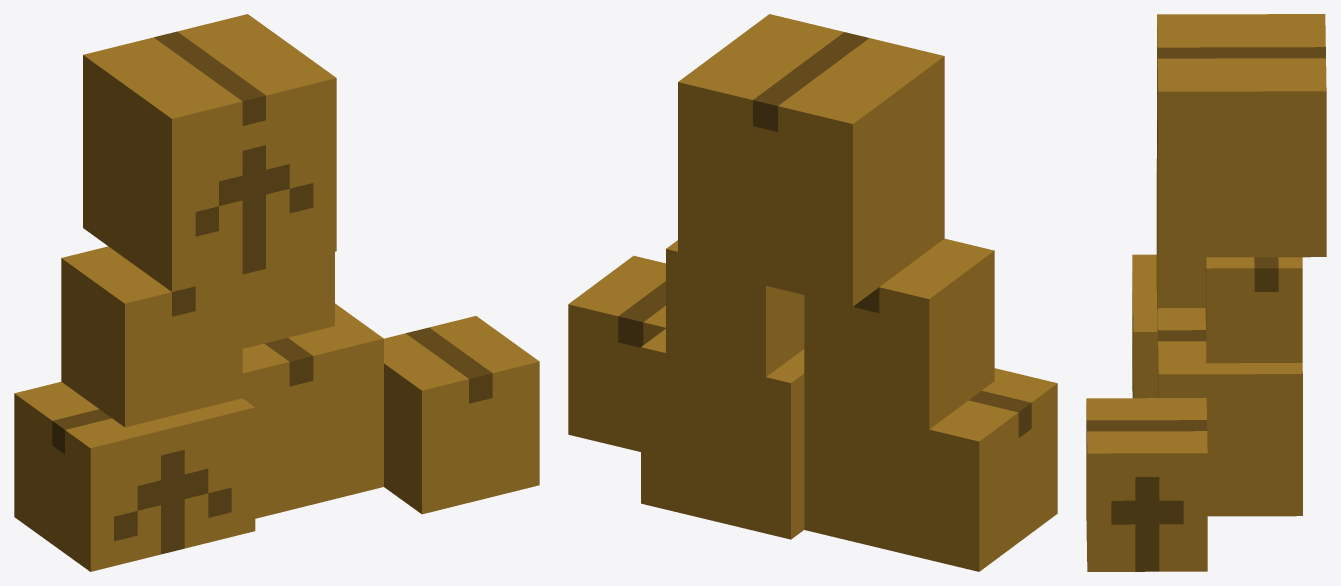
Rendered from boxes_02.fbx.
The picture shows the model from 3 angles, left to right: view 1: azimuth 30°, elevation 25°; view 2: azimuth 150°, elevation 25°; view 3: azimuth 270°, elevation 25°; orthographic projection. The views are drawn at different scales.
Parts seen in each view (by area): view 1: boxes_02; view 2: boxes_02; view 3: boxes_02.
Part boxes in pixels (x1=…): boxes_02: x1=14, y1=14, x2=539, y2=571; boxes_02: x1=568, y1=14, x2=1057, y2=571; boxes_02: x1=1086, y1=14, x2=1326, y2=571.
Size of the model in its own units: 241 by 227 by 123.
